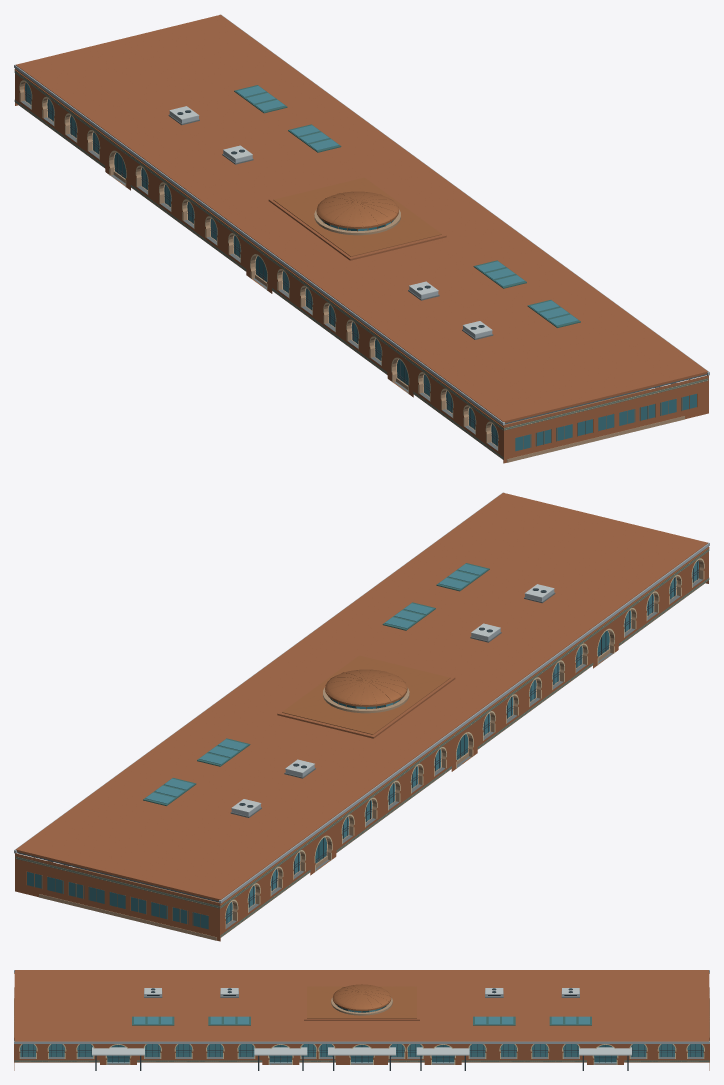
File: OUD_terminal_main.glb
3 renders of one model, top to bottom at view 1: azimuth 30°, elevation 25°; view 2: azimuth 150°, elevation 25°; view 3: azimuth 270°, elevation 25°, orthographic. The views are drawn at different scales.
Parts seen in each view (by area): view 1: OUD_terminal_main; view 2: OUD_terminal_main; view 3: OUD_terminal_main.
Part boxes in pixels (left/top/right/bottom): OUD_terminal_main: left=14, top=14, right=709, bottom=463; OUD_terminal_main: left=14, top=492, right=709, bottom=941; OUD_terminal_main: left=14, top=970, right=709, bottom=1070.
Bounding box in the file's own units: 44 × 12 × 180.
16 materials, 16 textured.
